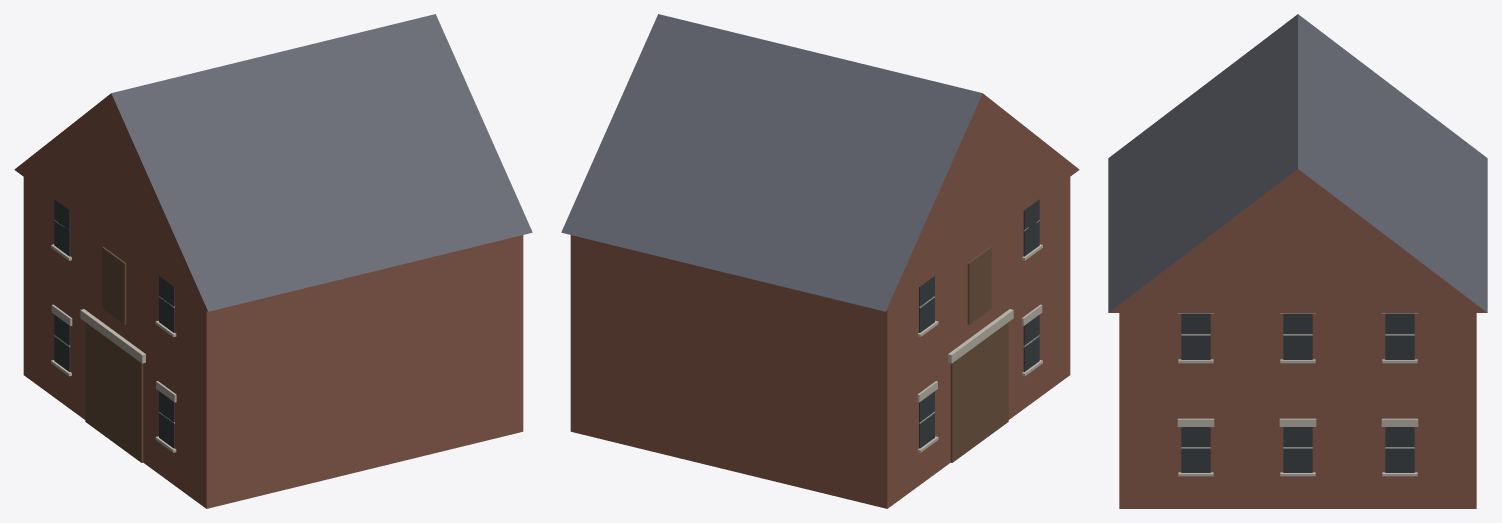
Rendered from house_1616_prairie_coach_house__draft_1904.glb.
The picture shows the model from 3 angles, left to right: view 1: azimuth 30°, elevation 25°; view 2: azimuth 150°, elevation 25°; view 3: azimuth 270°, elevation 25°; orthographic projection. The views are drawn at different scales.
Visible parts, largest first — view 1: house_1616_prairie_coach_house__draft_1904; view 2: house_1616_prairie_coach_house__draft_1904; view 3: house_1616_prairie_coach_house__draft_1904.
Boxes of the visible parts, box(x1,y1,x2,y2) form: house_1616_prairie_coach_house__draft_1904: box(14, 14, 532, 508); house_1616_prairie_coach_house__draft_1904: box(561, 14, 1079, 508); house_1616_prairie_coach_house__draft_1904: box(1108, 14, 1487, 508).
Bounding box in the file's own units: 9.99 × 10.29 × 10.35.
